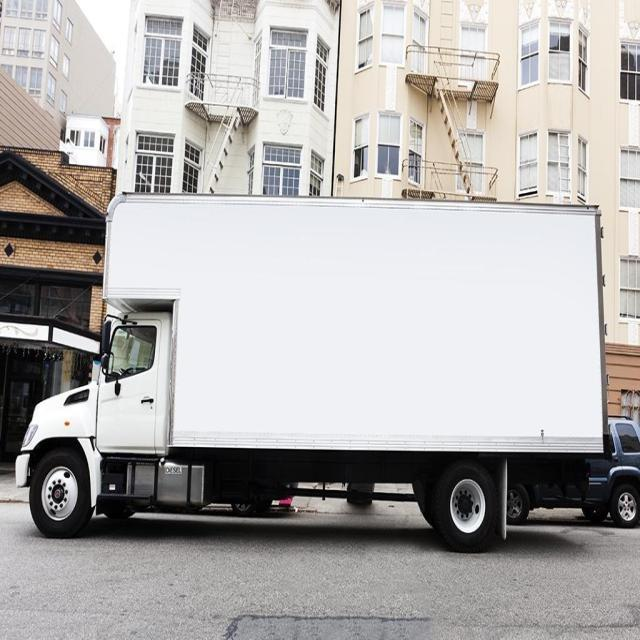covered: (47, 150, 608, 540)
